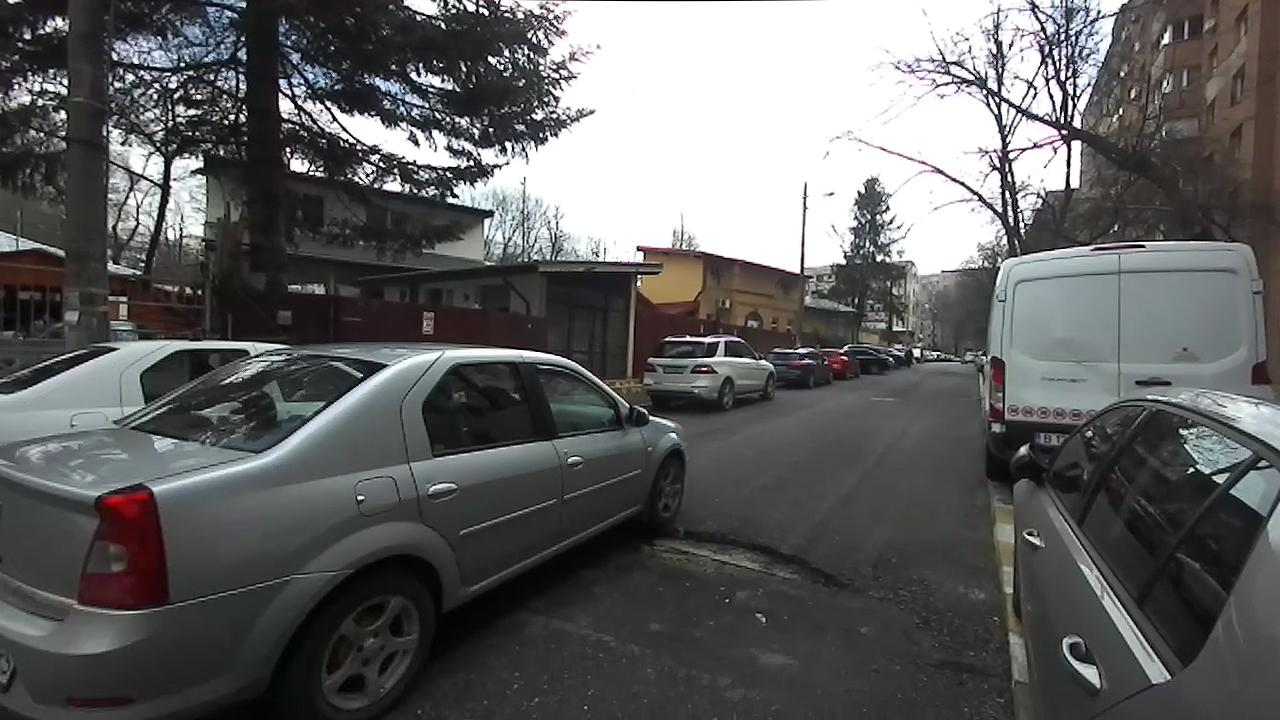pothole: (641, 529, 859, 595)
